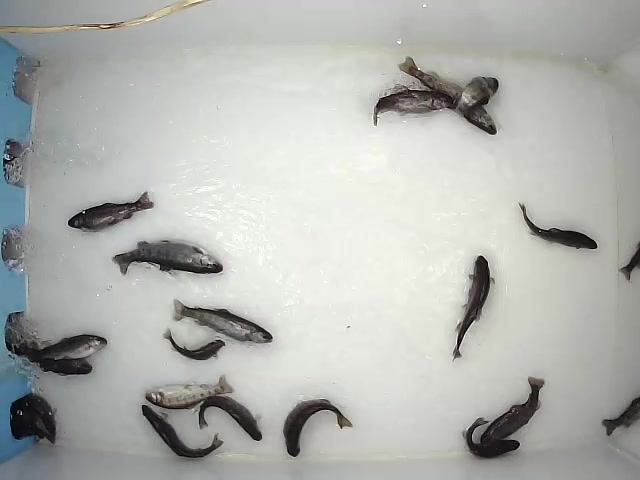fish: (396, 55, 497, 136), (450, 254, 495, 362), (171, 298, 274, 345), (480, 375, 546, 448), (141, 404, 224, 460), (111, 238, 224, 276), (282, 399, 354, 458), (516, 200, 598, 251), (66, 191, 155, 233), (144, 374, 236, 409), (372, 89, 454, 128), (198, 395, 263, 442), (460, 417, 521, 460), (26, 334, 108, 363), (161, 327, 226, 362), (455, 76, 500, 116)
